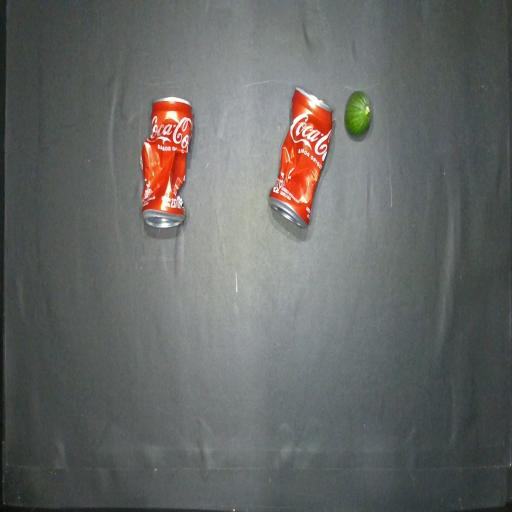higo: (345, 91, 371, 137)
lata_defectuoso: (269, 88, 333, 227), (141, 97, 193, 228)
